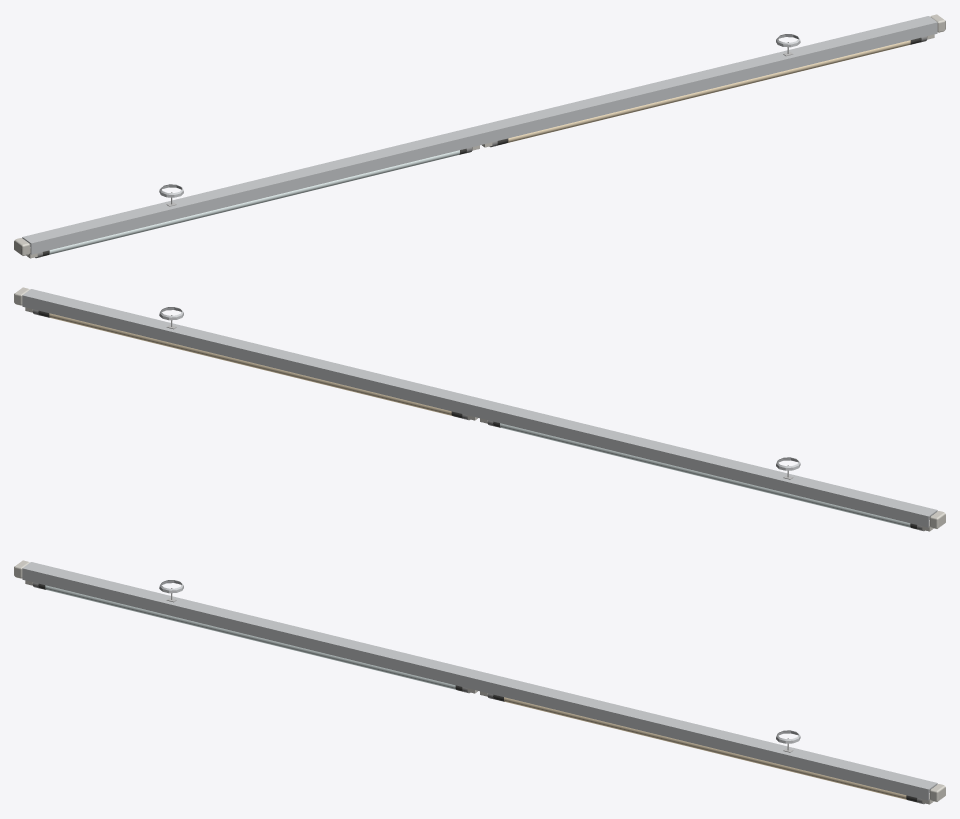
File: tube_long@1.glb
The picture shows the model from 3 angles, top to bottom: view 1: azimuth 30°, elevation 25°; view 2: azimuth 150°, elevation 25°; view 3: azimuth 330°, elevation 25°; orthographic projection.
Parts seen in each view (by area): view 1: profil, roehre0, roehre1; view 2: profil, roehre0, roehre1; view 3: profil, roehre0, roehre1.
Boxes of the visible parts, x1,y1,x2,y2 form: profil: (22, 16, 937, 254); roehre0: (49, 150, 459, 254); roehre1: (508, 40, 910, 142); profil: (22, 289, 937, 527); roehre0: (500, 423, 910, 527); roehre1: (49, 313, 451, 415); profil: (22, 562, 937, 800); roehre0: (45, 585, 455, 689); roehre1: (504, 697, 906, 799).
Bounding box in the file's own units: 3 × 0.1108 × 0.0666.
